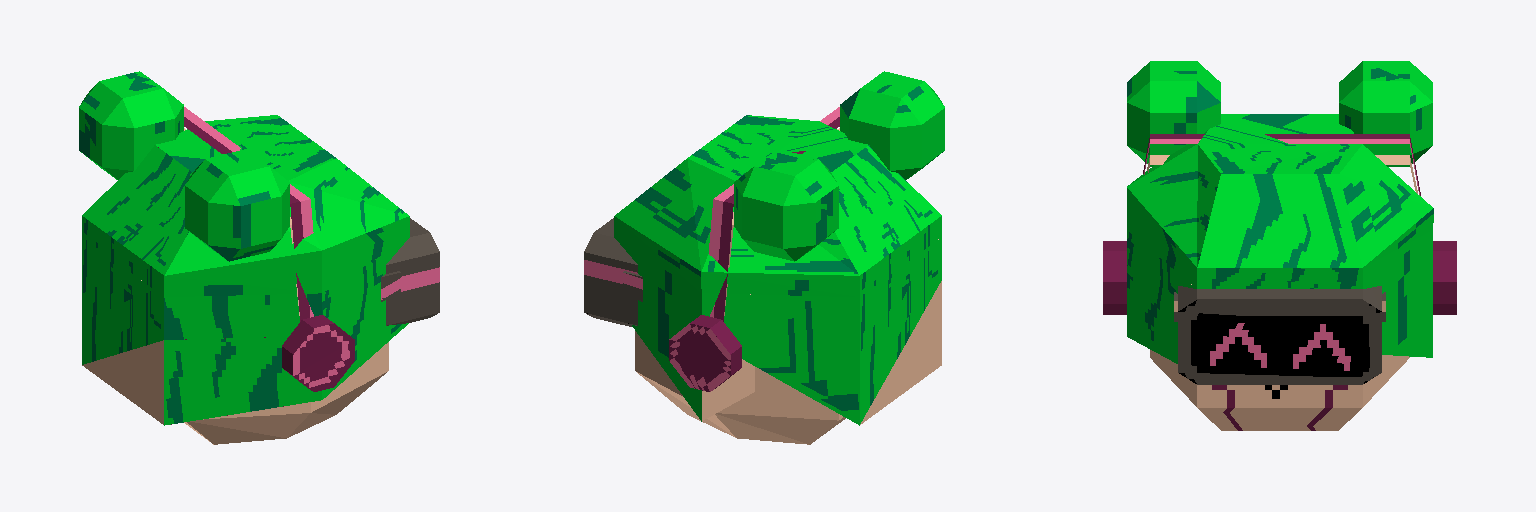
3 renders of one model, left to right at view 1: azimuth 30°, elevation 25°; view 2: azimuth 150°, elevation 25°; view 3: azimuth 270°, elevation 25°, orthographic.
Visible parts, largest first — view 1: cybergirl; view 2: cybergirl; view 3: cybergirl.
Part boxes in pixels (x1,y1,x2,y2): cybergirl: (79,71,439,444); cybergirl: (584,71,944,444); cybergirl: (1103,61,1456,430).
Bounding box in the file's own units: 3.25 × 3.5 × 3.75.
1 materials, 1 textured.